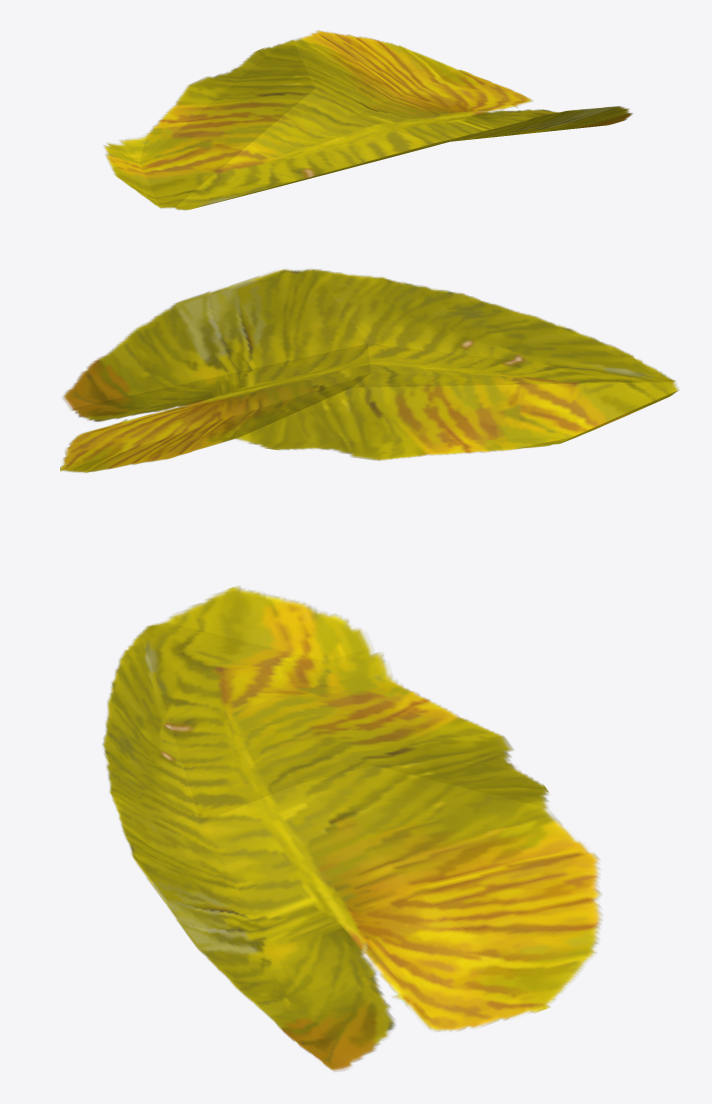
File: BSPlant_2_Leaf_4.gltf
3 renders of one model, top to bottom at view 1: azimuth 30°, elevation 25°; view 2: azimuth 150°, elevation 25°; view 3: azimuth 270°, elevation 25°, orthographic. The views are drawn at different scales.
Visible parts, largest first — view 1: BSPlant_2_Leaf_4; view 2: BSPlant_2_Leaf_4; view 3: BSPlant_2_Leaf_4.
Part boxes in pixels (x1=…): BSPlant_2_Leaf_4: x1=103, y1=30, x2=632, y2=210; BSPlant_2_Leaf_4: x1=60, y1=268, x2=679, y2=472; BSPlant_2_Leaf_4: x1=102, y1=586, x2=602, y2=1071.
Size of the model in its own units: 3.56 by 0.8054 by 2.58.
1 material, 1 textured.
